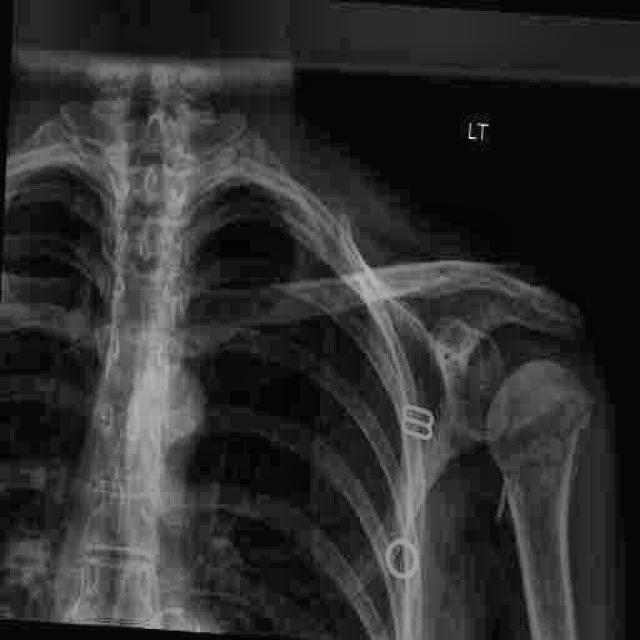shoulder fracture: (554, 372, 614, 452), (500, 254, 561, 315)
